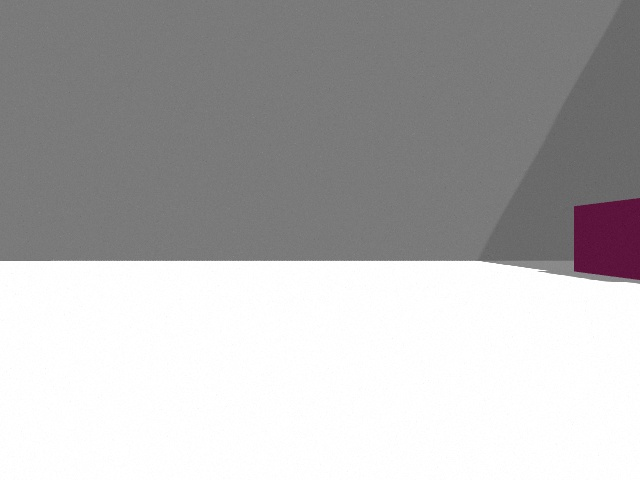red_drop_zone: (574, 198, 640, 280)
